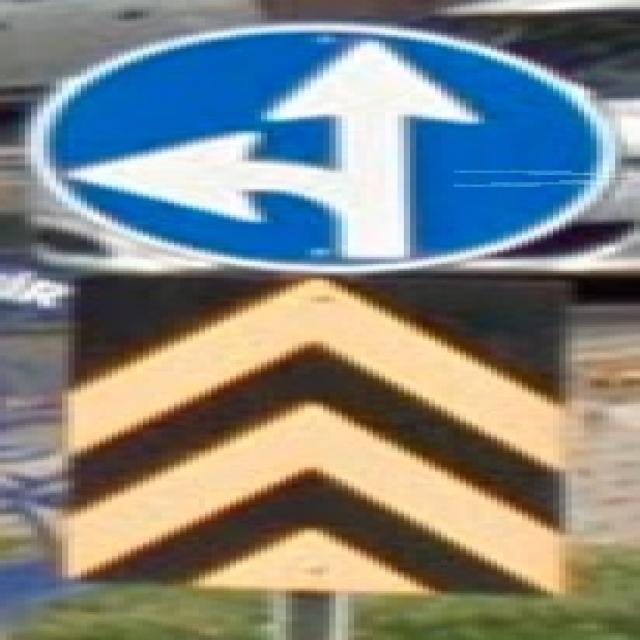Straight or Left: (35, 23, 619, 273)
